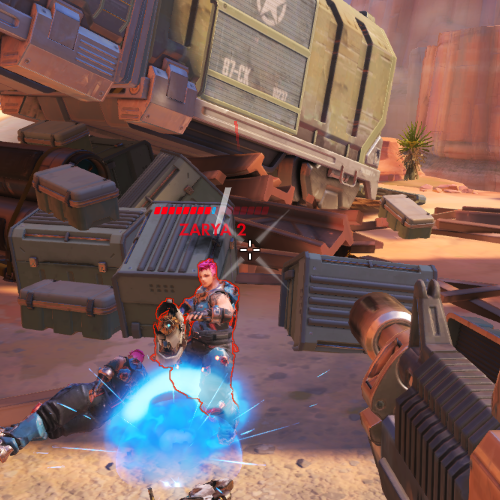hpbar: (153, 206, 270, 215)
